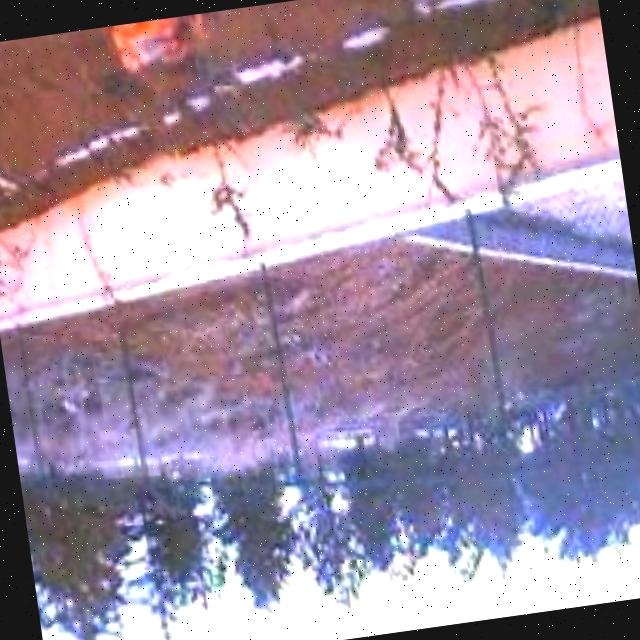fire: (25, 14, 209, 94)
